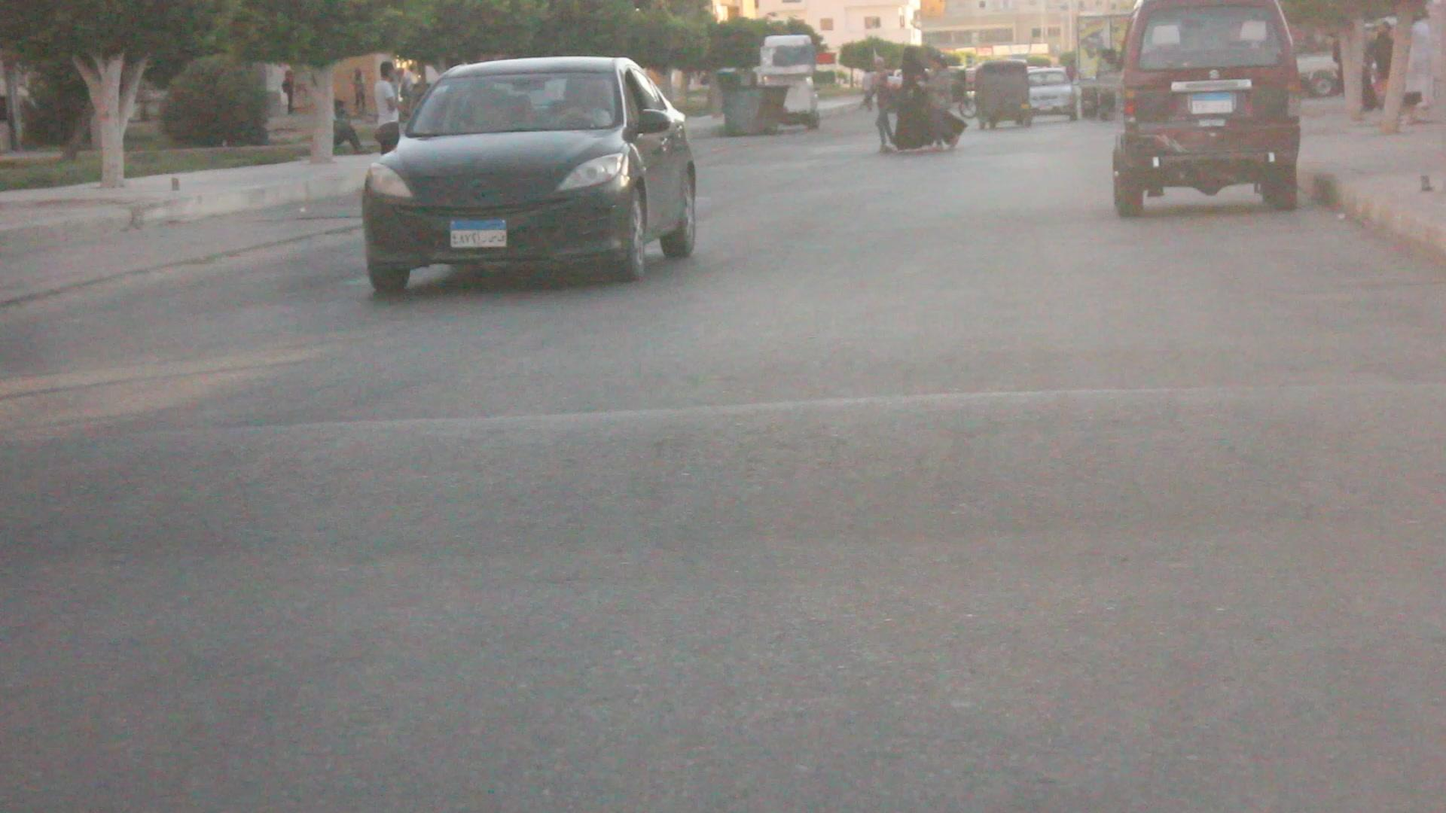Bump: (0, 393, 1437, 521)
